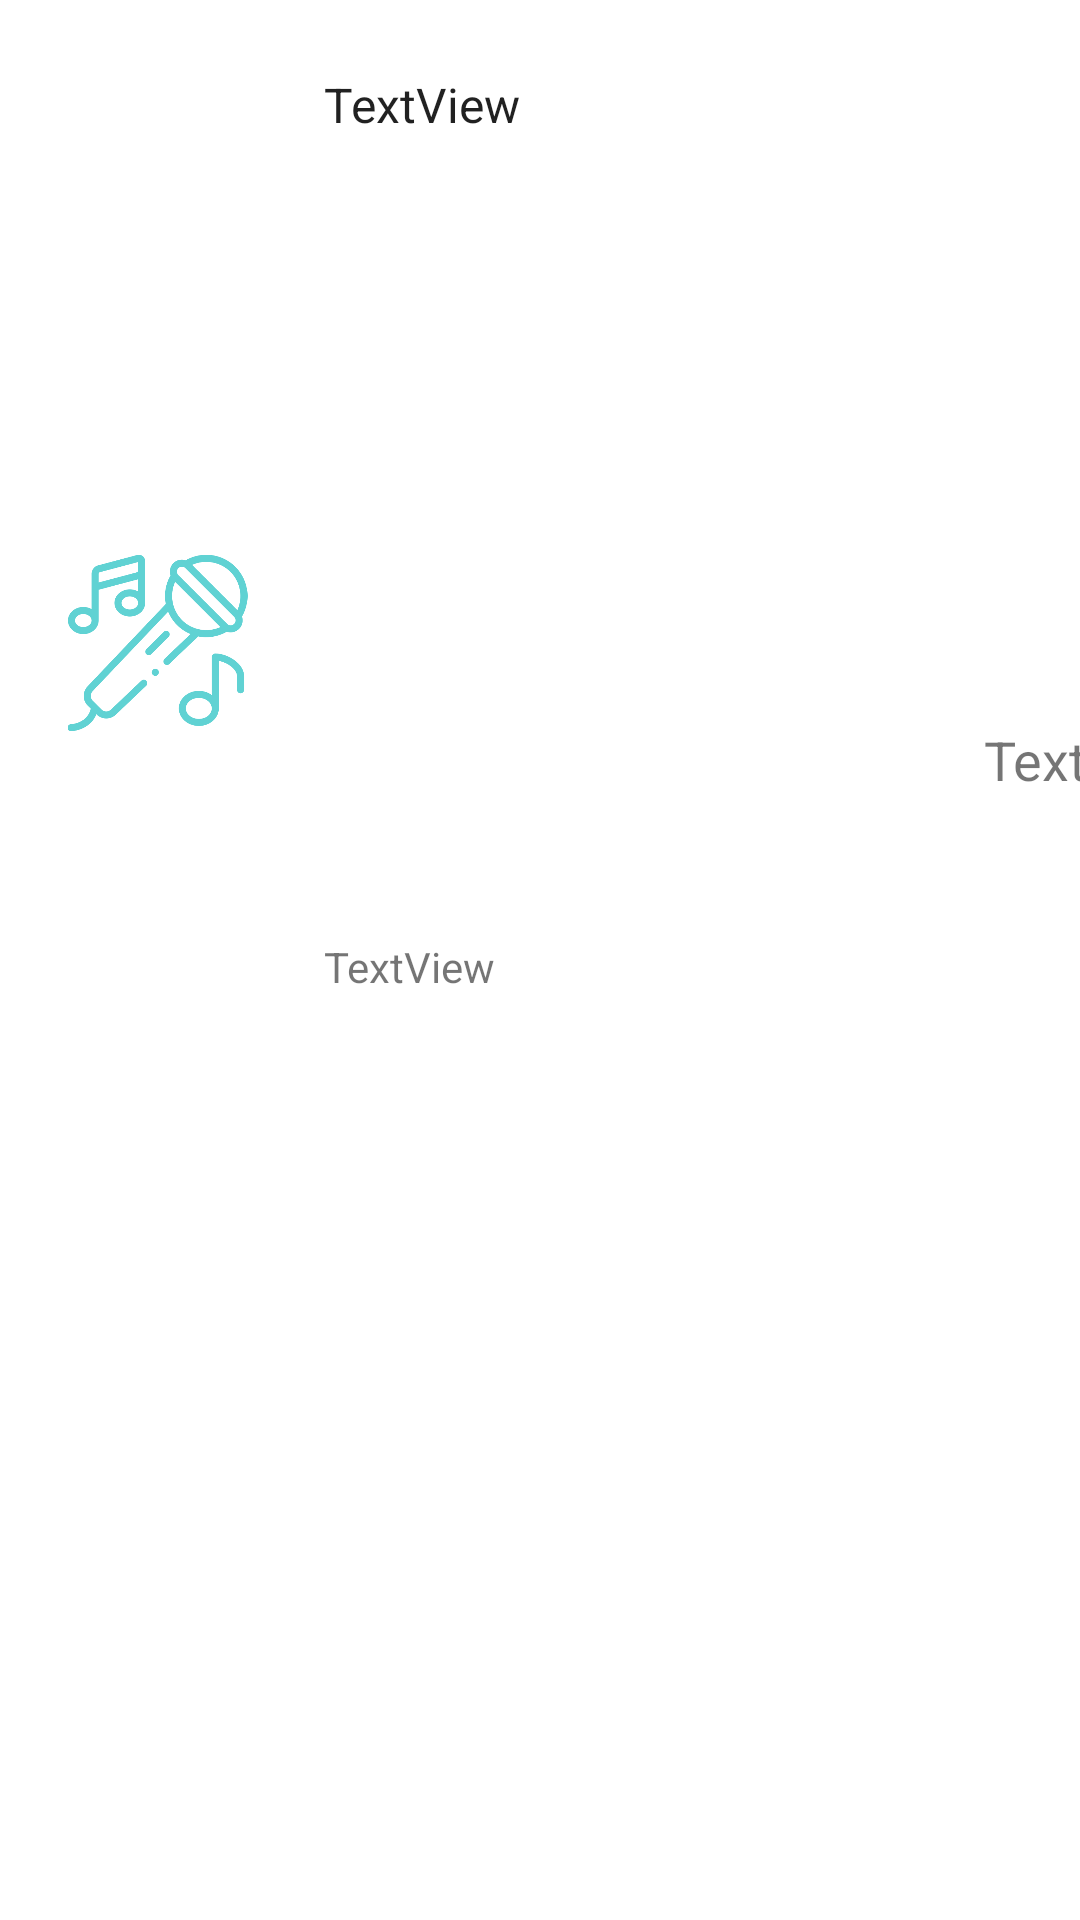

Screen size 1080*1920. Icon name, then its center in pixels as (x,y):
concert: (158,643)
